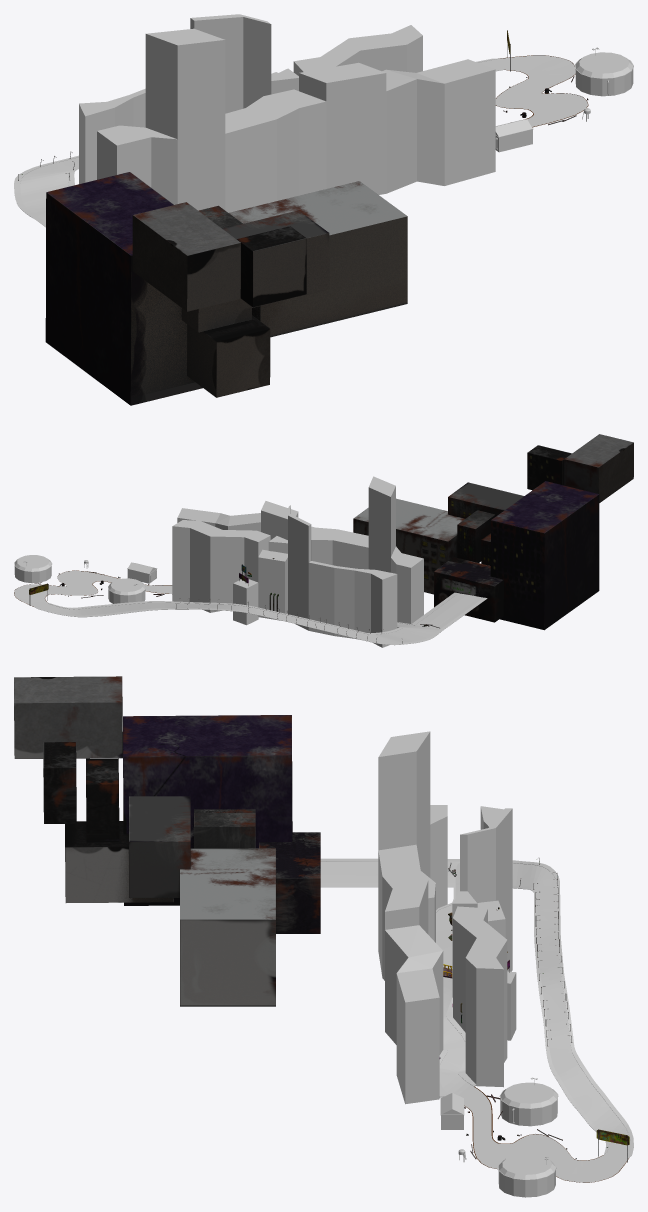
File: circuit.obj
3 renders of one model, top to bottom at view 1: azimuth 30°, elevation 25°; view 2: azimuth 150°, elevation 25°; view 3: azimuth 270°, elevation 25°, orthographic. The views are drawn at different scales.
Parts seen in each view (by area): view 1: EDIFICIOS_Cube, EdificiosFondo.001_Cube.003, EdificiosFondo_Cube.043, PistaBordillo_BezierCurve.003_CUBezierCurve.000, EdificiosIndustrial_Cylinder.001_Cylinder.016; view 2: EDIFICIOS_Cube, EdificiosFondo.001_Cube.003, EdificiosFondo_Cube.043, PistaBordillo_BezierCurve.003_CUBezierCurve.000, EdificiosIndustrial_Cylinder.001_Cylinder.016; view 3: EDIFICIOS_Cube, EdificiosFondo.001_Cube.003, EdificiosFondo_Cube.043, PistaBordillo_BezierCurve.003_CUBezierCurve.000, EdificiosIndustrial_Cylinder.001_Cylinder.016.
Part boxes in pixels (<box>): EDIFICIOS_Cube: <box>79,14,495,212</box>; EdificiosFondo.001_Cube.003: <box>45,172,306,405</box>; EdificiosFondo_Cube.043: <box>198,181,407,337</box>; PistaBordillo_BezierCurve.003_CUBezierCurve.000: <box>14,55,587,227</box>; EdificiosIndustrial_Cylinder.001_Cylinder.016: <box>495,47,633,152</box>; EDIFICIOS_Cube: <box>172,476,423,647</box>; EdificiosFondo.001_Cube.003: <box>490,434,633,630</box>; EdificiosFondo_Cube.043: <box>353,482,523,622</box>; PistaBordillo_BezierCurve.003_CUBezierCurve.000: <box>14,571,487,645</box>; EdificiosIndustrial_Cylinder.001_Cylinder.016: <box>14,555,157,603</box>; EDIFICIOS_Cube: <box>378,731,516,1104</box>; EdificiosFondo.001_Cube.003: <box>14,676,292,905</box>; EdificiosFondo_Cube.043: <box>129,796,320,1006</box>; PistaBordillo_BezierCurve.003_CUBezierCurve.000: <box>320,858,633,1182</box>; EdificiosIndustrial_Cylinder.001_Cylinder.016: <box>440,1077,558,1197</box>.
Size of what is drawn, in the model's own units: 5215 by 1545 by 4015.
